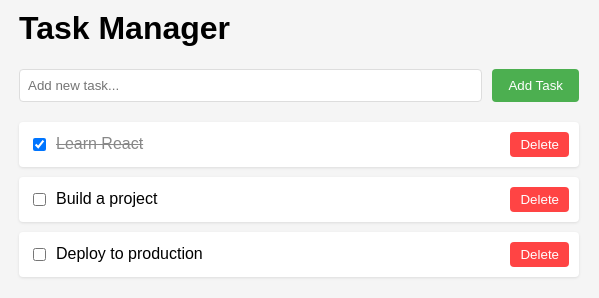
App Component › deletes a task
Click the button "Delete" in the row of "Learn React" at (540, 144), box top-left (510, 132), bottom-right (569, 157)
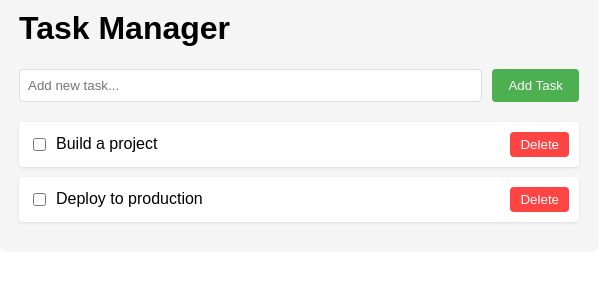
Now the number of checkboxes is 2, box top-left (33, 138), bottom-right (46, 151); top-left (33, 193), bottom-right (46, 206)
